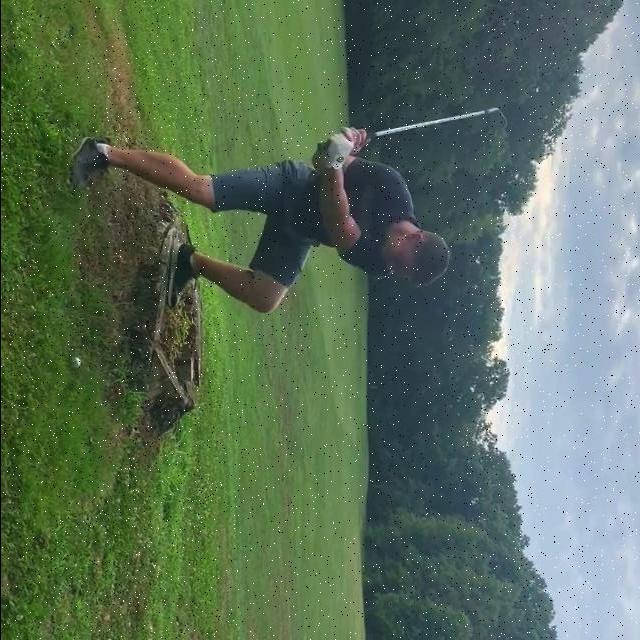golf ball: (69, 356, 80, 370)
golf club-handle: (316, 107, 506, 153)
golf club-head: (490, 106, 505, 130)
